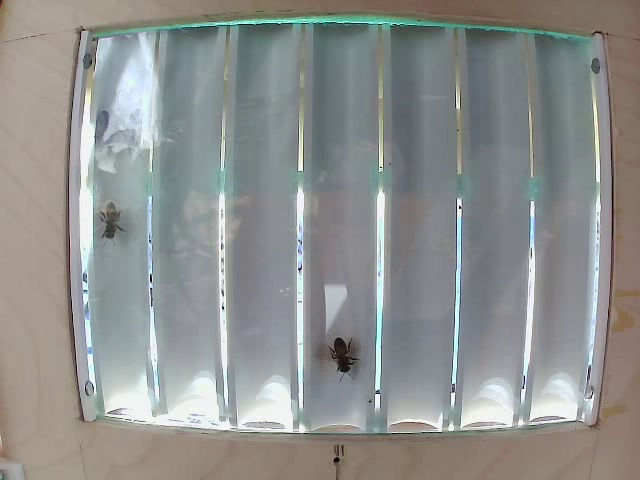bee: (99, 191, 143, 260), (319, 331, 363, 374)
